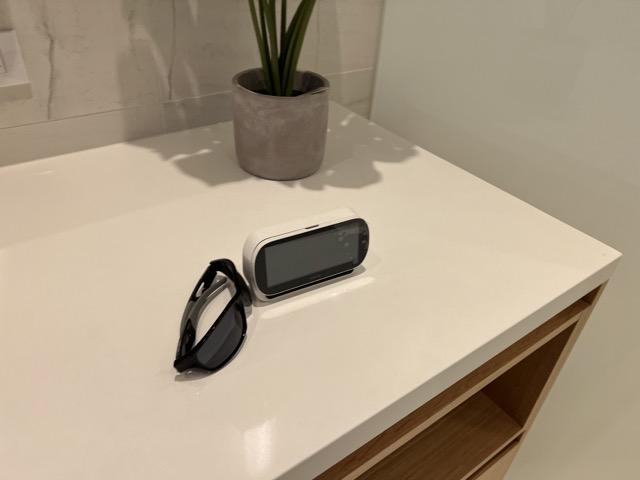Sunglasses: (173, 258, 253, 375)
